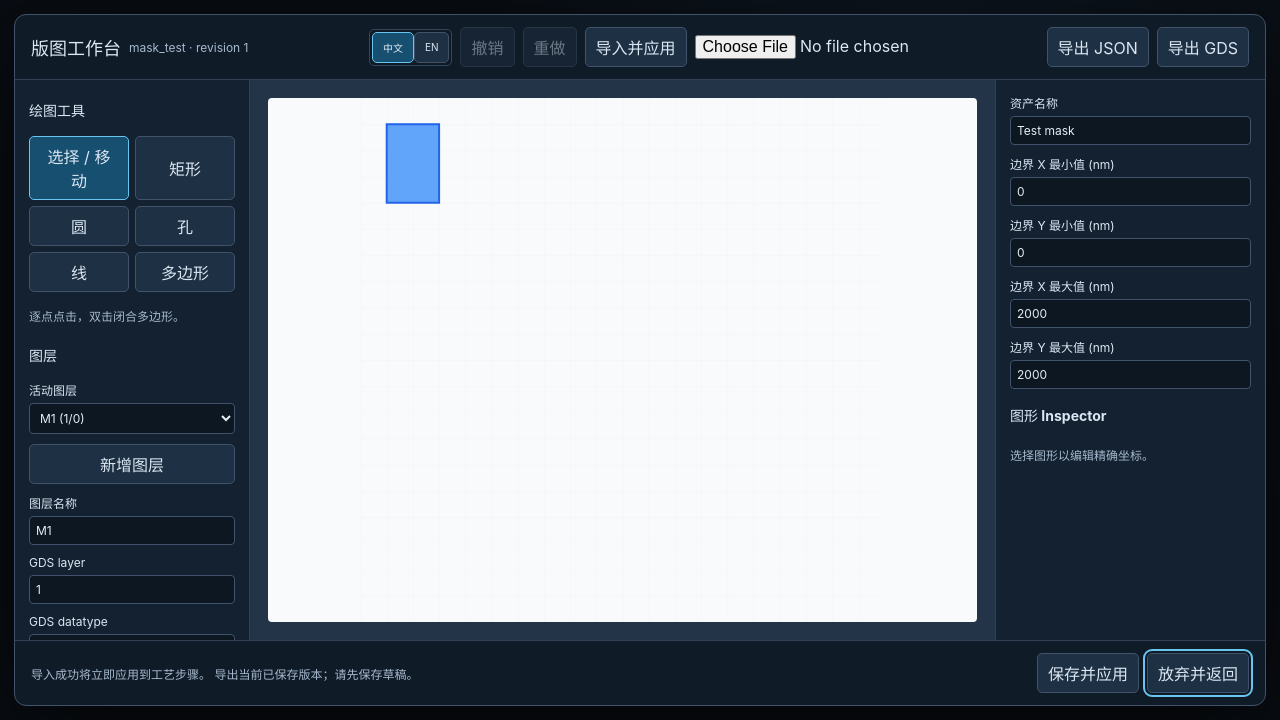
Mask Workbench session › traps tab focus inside dialog and rejects empty/non-finite geometry edits
Press Tab in the dialog
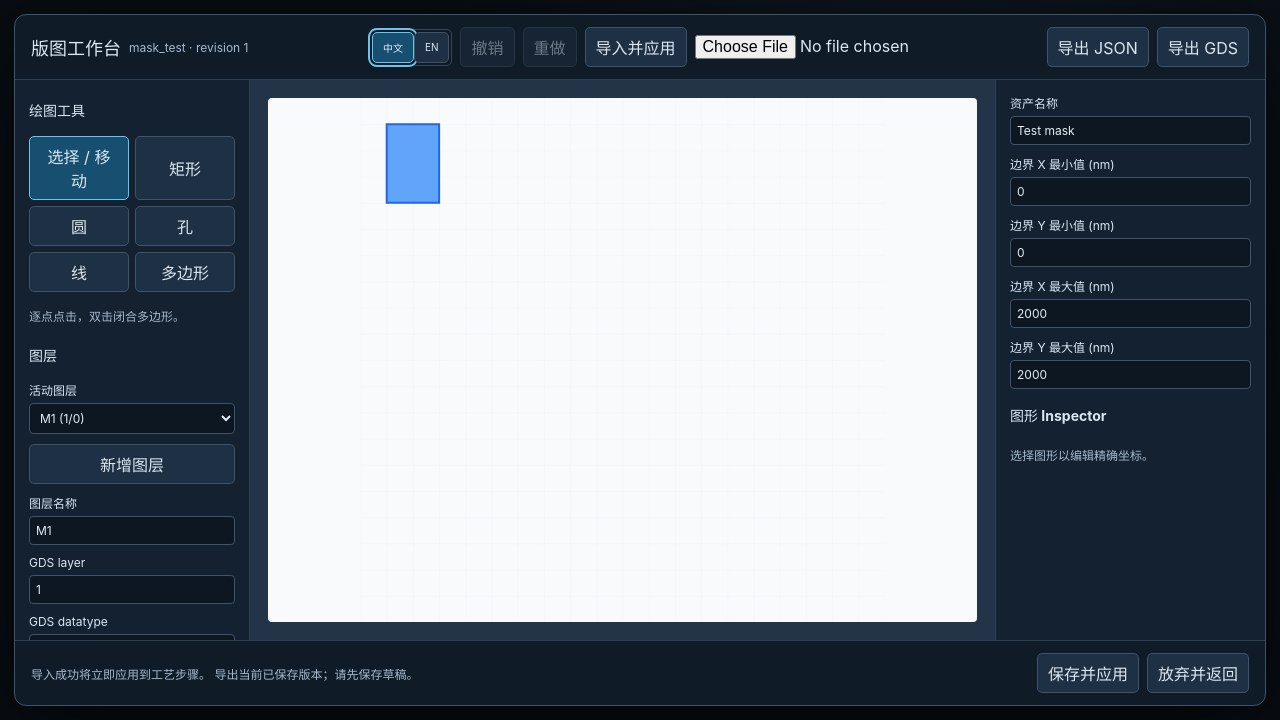
Press Tab in the dialog
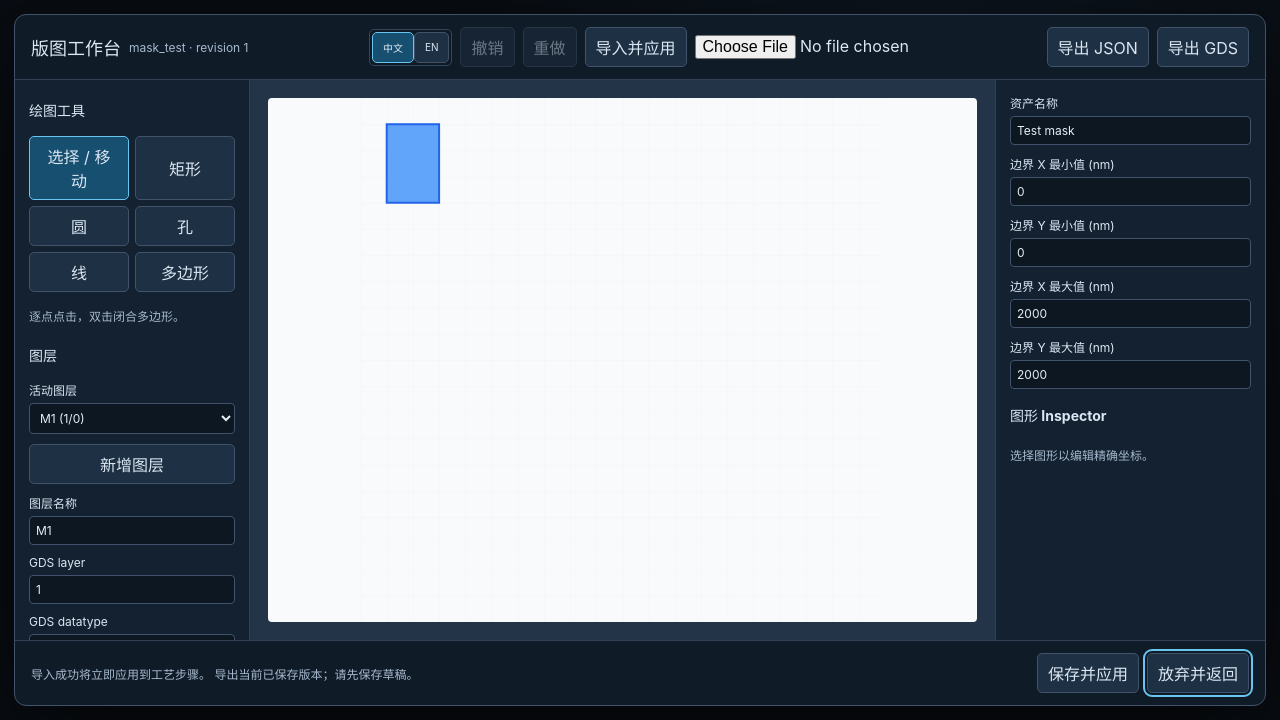
Clear the number field labelled "边界 X 最大值 (nm)": (1130, 314) [1010, 299, 1251, 328]
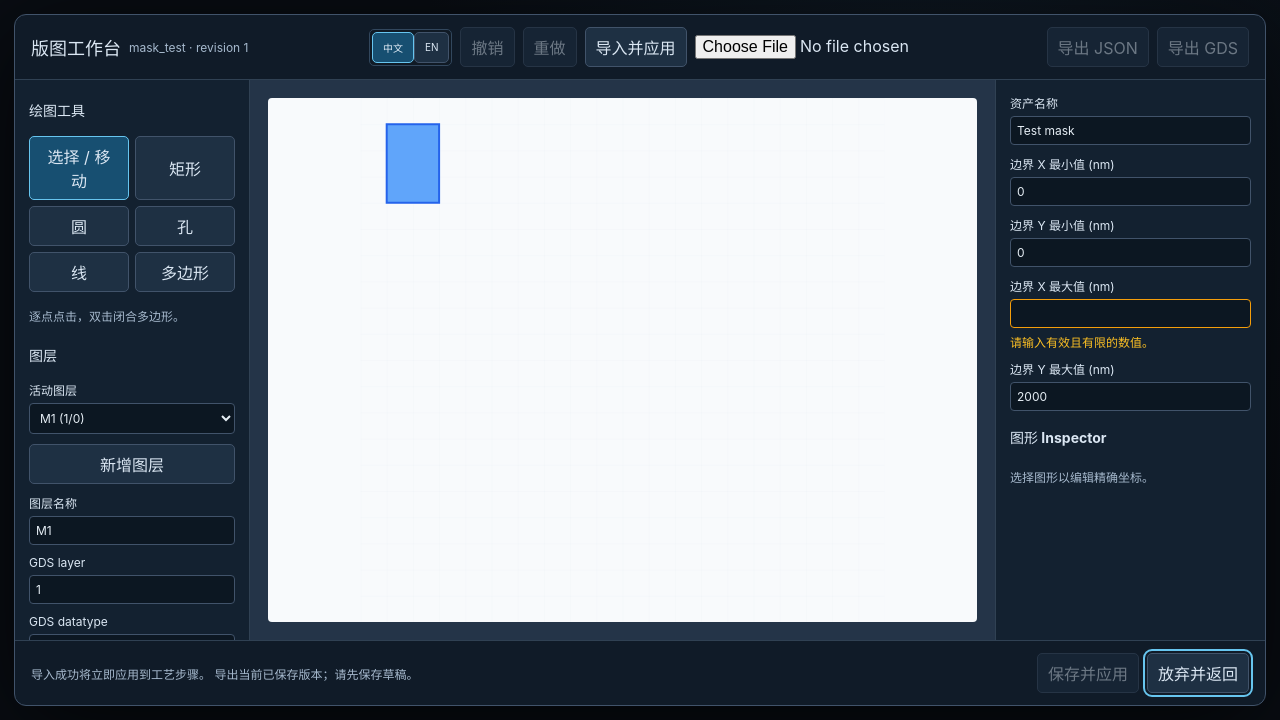
Expected: the button "撤销" is disabled, [460, 27, 514, 67]
Now the button "保存并应用" is disabled, box [1037, 653, 1139, 693]
